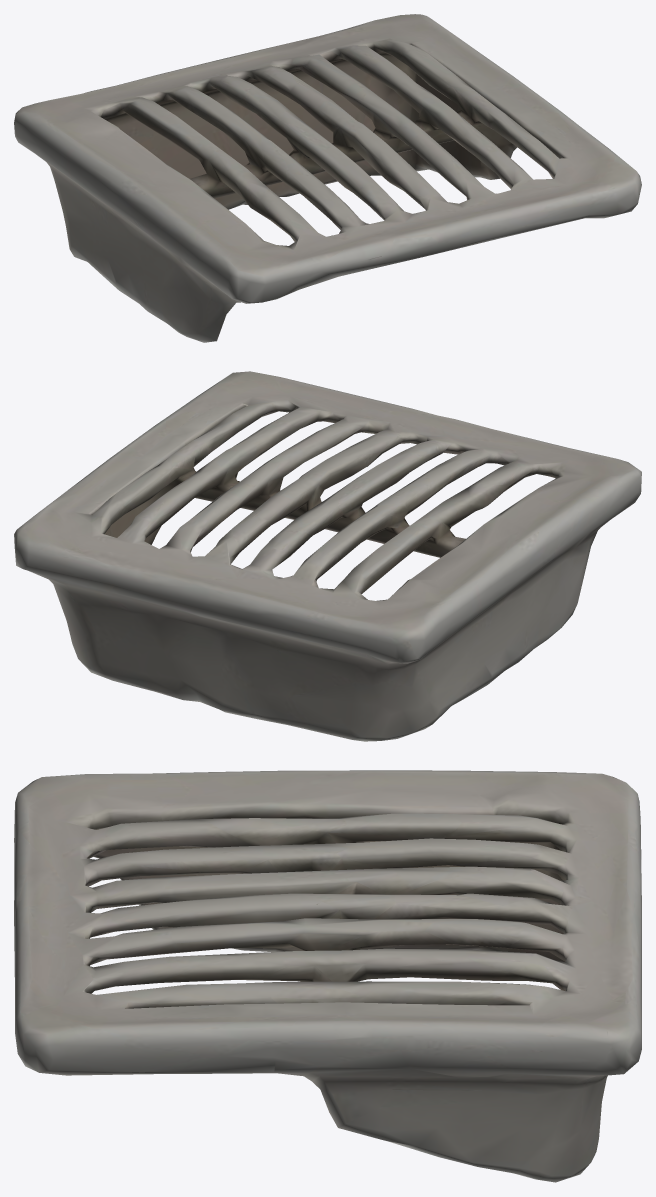
The model's file is gen-drain.glb.
The picture shows the model from 3 angles, top to bottom: view 1: azimuth 30°, elevation 25°; view 2: azimuth 150°, elevation 25°; view 3: azimuth 270°, elevation 25°; orthographic projection. The views are drawn at different scales.
Visible parts, largest first — view 1: tripo_node_005d77c3-d5e9-4ea3-9815-e6be8793b7a8; view 2: tripo_node_005d77c3-d5e9-4ea3-9815-e6be8793b7a8; view 3: tripo_node_005d77c3-d5e9-4ea3-9815-e6be8793b7a8.
Part boxes in pixels (x1,y1,x2,y2): tripo_node_005d77c3-d5e9-4ea3-9815-e6be8793b7a8: (14,14,641,342); tripo_node_005d77c3-d5e9-4ea3-9815-e6be8793b7a8: (14,371,641,741); tripo_node_005d77c3-d5e9-4ea3-9815-e6be8793b7a8: (14,770,641,1182).
Size of the model in its own units: 0.9969 by 0.3637 by 1.
Materials: 1 (1 with a texture image).
